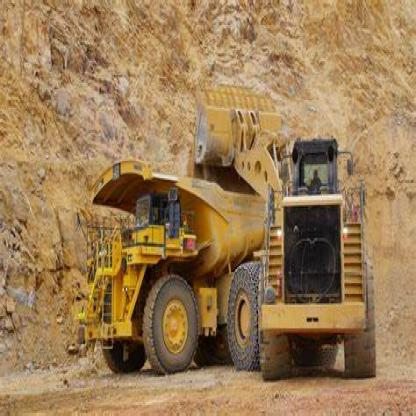bull_dozer/loader/grader: (181, 80, 384, 384)
dump_truck: (67, 156, 257, 388)
